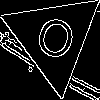O: (29, 13, 80, 72)
